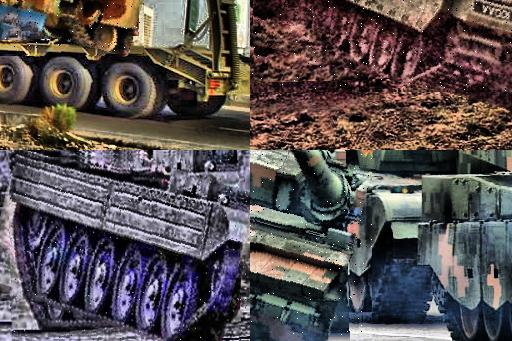tanks: (10, 155, 251, 341), (251, 151, 460, 323), (251, 151, 373, 341), (300, 1, 512, 91), (420, 151, 512, 341), (1, 1, 143, 56)
